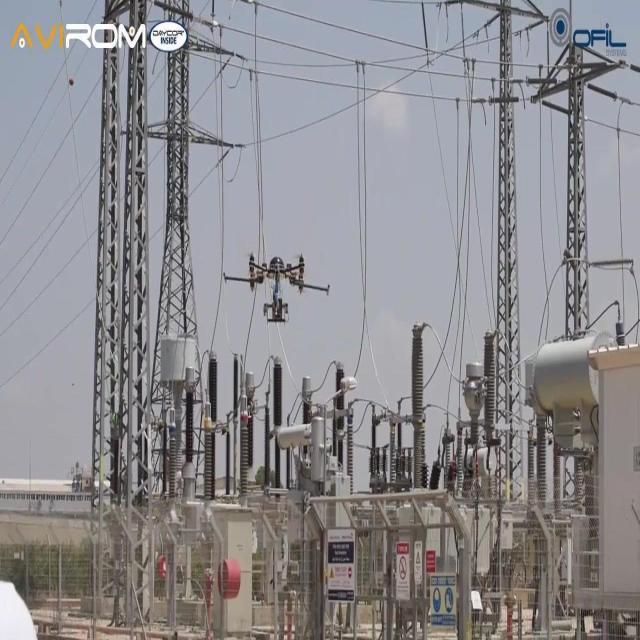drone: (222, 249, 332, 327)
